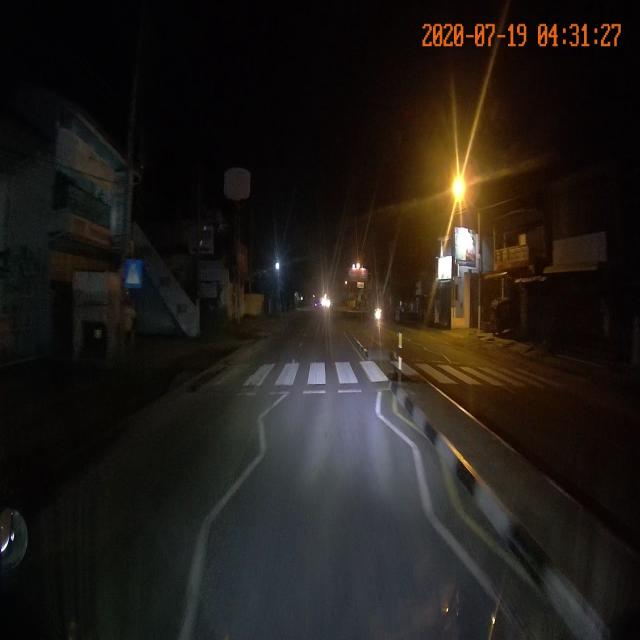Crosswalk: (232, 358, 542, 399)
